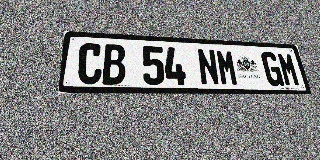4: (163, 47, 187, 85)
5: (142, 46, 165, 85)
B: (102, 44, 125, 85)
C: (77, 43, 103, 84)
G: (260, 52, 285, 86)
M: (215, 49, 239, 86), (277, 52, 301, 86)
N: (196, 48, 220, 86)
